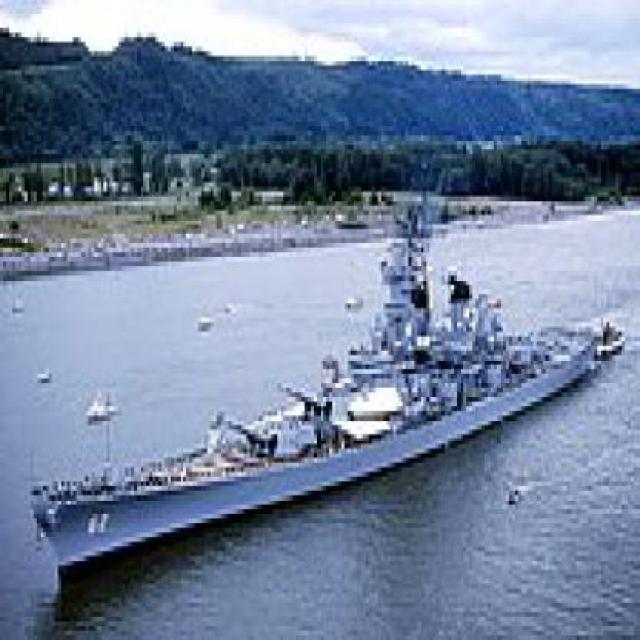warship2: (32, 160, 635, 609)
